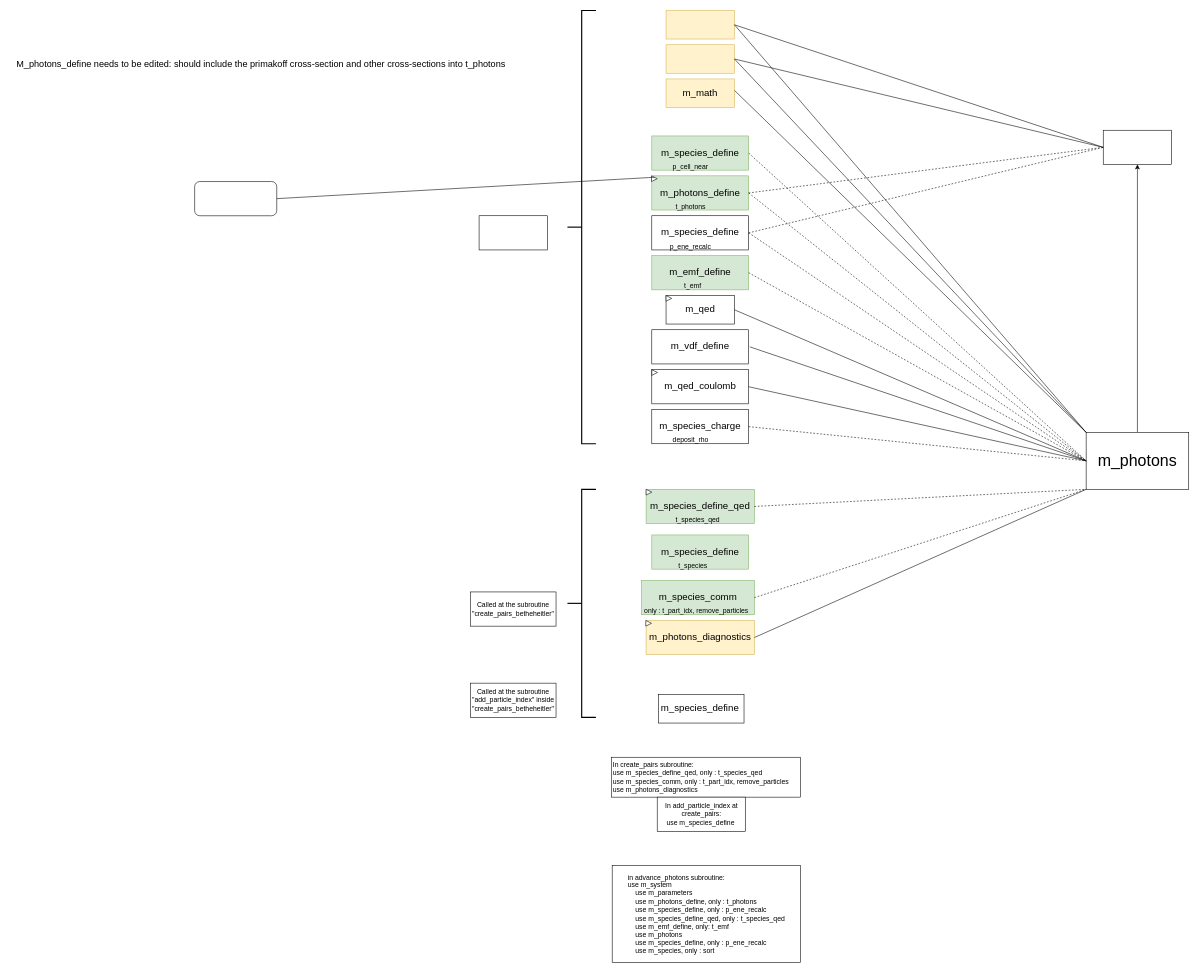
This 1199x972 diagram has some shape labels left out. The shapes that lost their labels are listed below. From the top down, each one's centre as x and y in pixels, then its label:
the point at 699,24: m_system
the point at 699,58: m_parameters
the point at 235,198: m_betheheitler
the point at 513,232: Called at the beginning of m_photons
